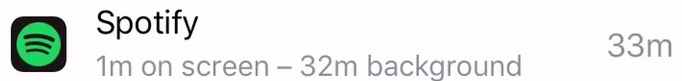name: (89, 4, 214, 43)
time: (298, 48, 363, 81), (91, 53, 139, 81)
